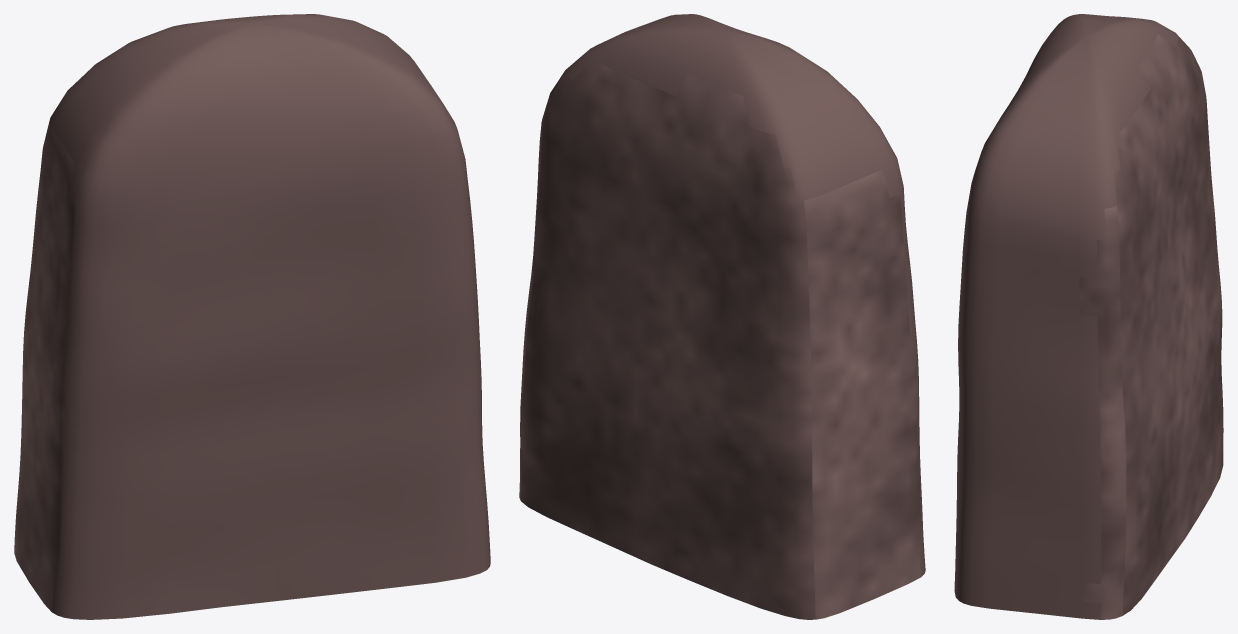
File: TarHenge10.glb
The picture shows the model from 3 angles, left to right: view 1: azimuth 30°, elevation 25°; view 2: azimuth 150°, elevation 25°; view 3: azimuth 270°, elevation 25°; orthographic projection. The views are drawn at different scales.
Parts seen in each view (by area): view 1: TarHenge10; view 2: TarHenge10; view 3: TarHenge10.
Part boxes in pixels (left/top/right/bottom): TarHenge10: left=14, top=14, right=490, bottom=619; TarHenge10: left=519, top=14, right=925, bottom=619; TarHenge10: left=954, top=14, right=1223, bottom=619.
Size of the model in its own units: 2.05 by 2.55 by 1.26.
Materials: 2 (1 with a texture image).
